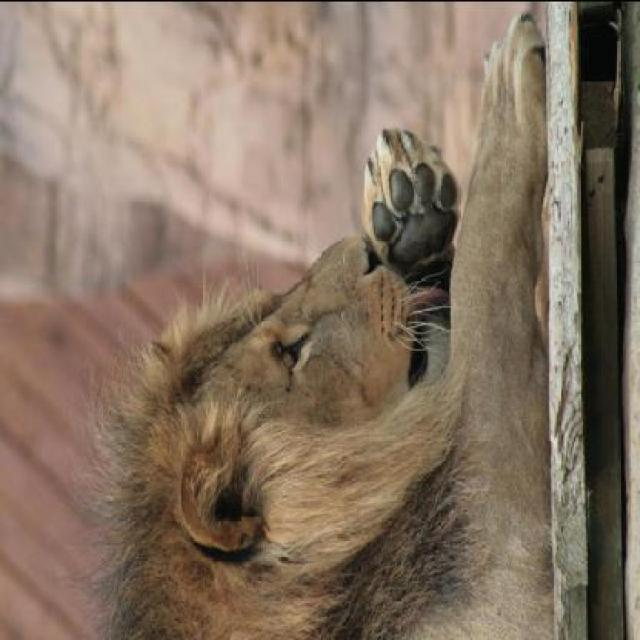Lion: (100, 12, 568, 638)
